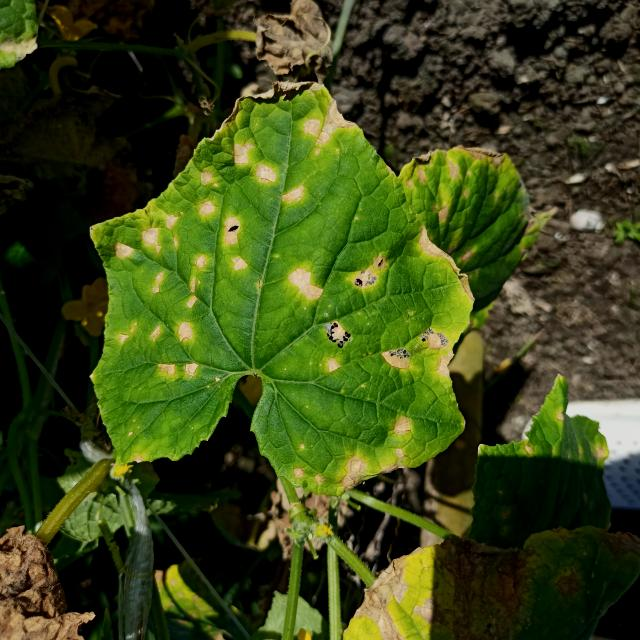disease_cucumber: (101, 107, 467, 491)
